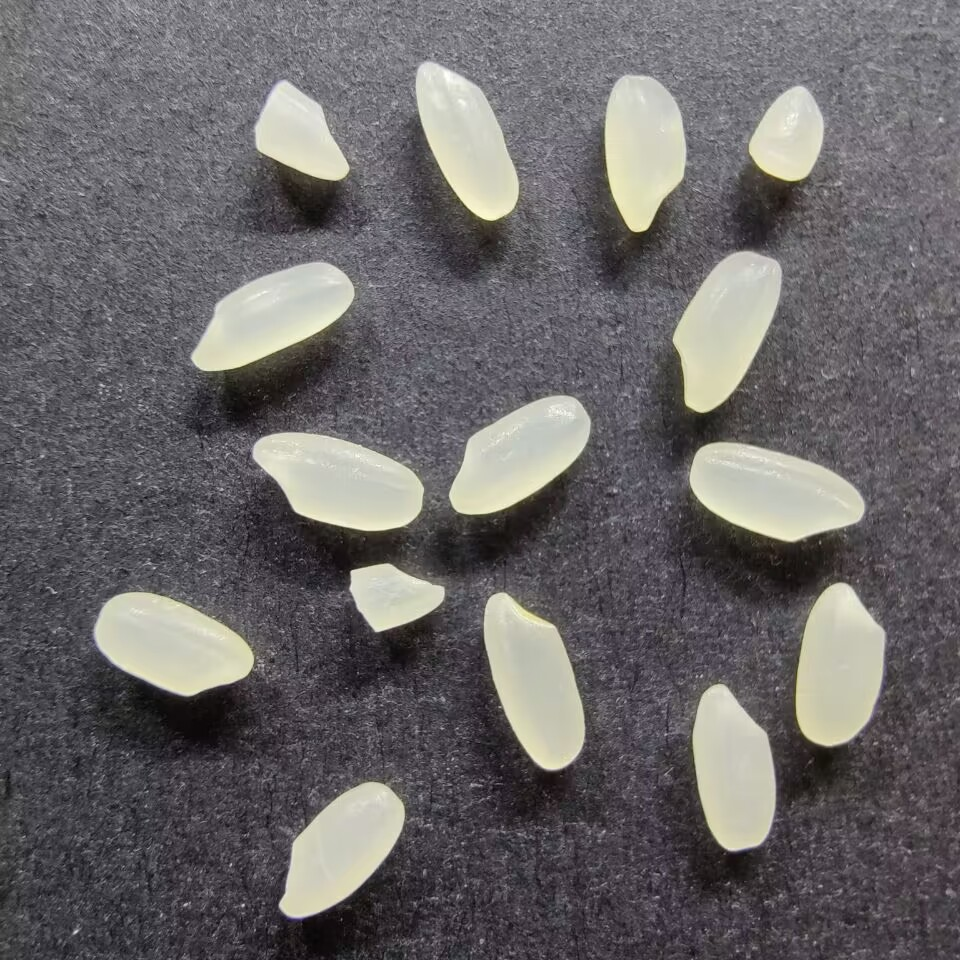broken: (253, 78, 349, 183), (745, 85, 827, 182), (345, 562, 446, 633)
rice: (481, 591, 588, 771), (669, 250, 783, 413), (277, 781, 407, 922), (191, 261, 356, 372), (690, 441, 867, 544), (446, 394, 593, 516), (411, 58, 519, 222), (250, 431, 425, 532), (93, 591, 255, 697), (793, 581, 889, 748), (691, 680, 778, 852), (602, 72, 686, 233)
